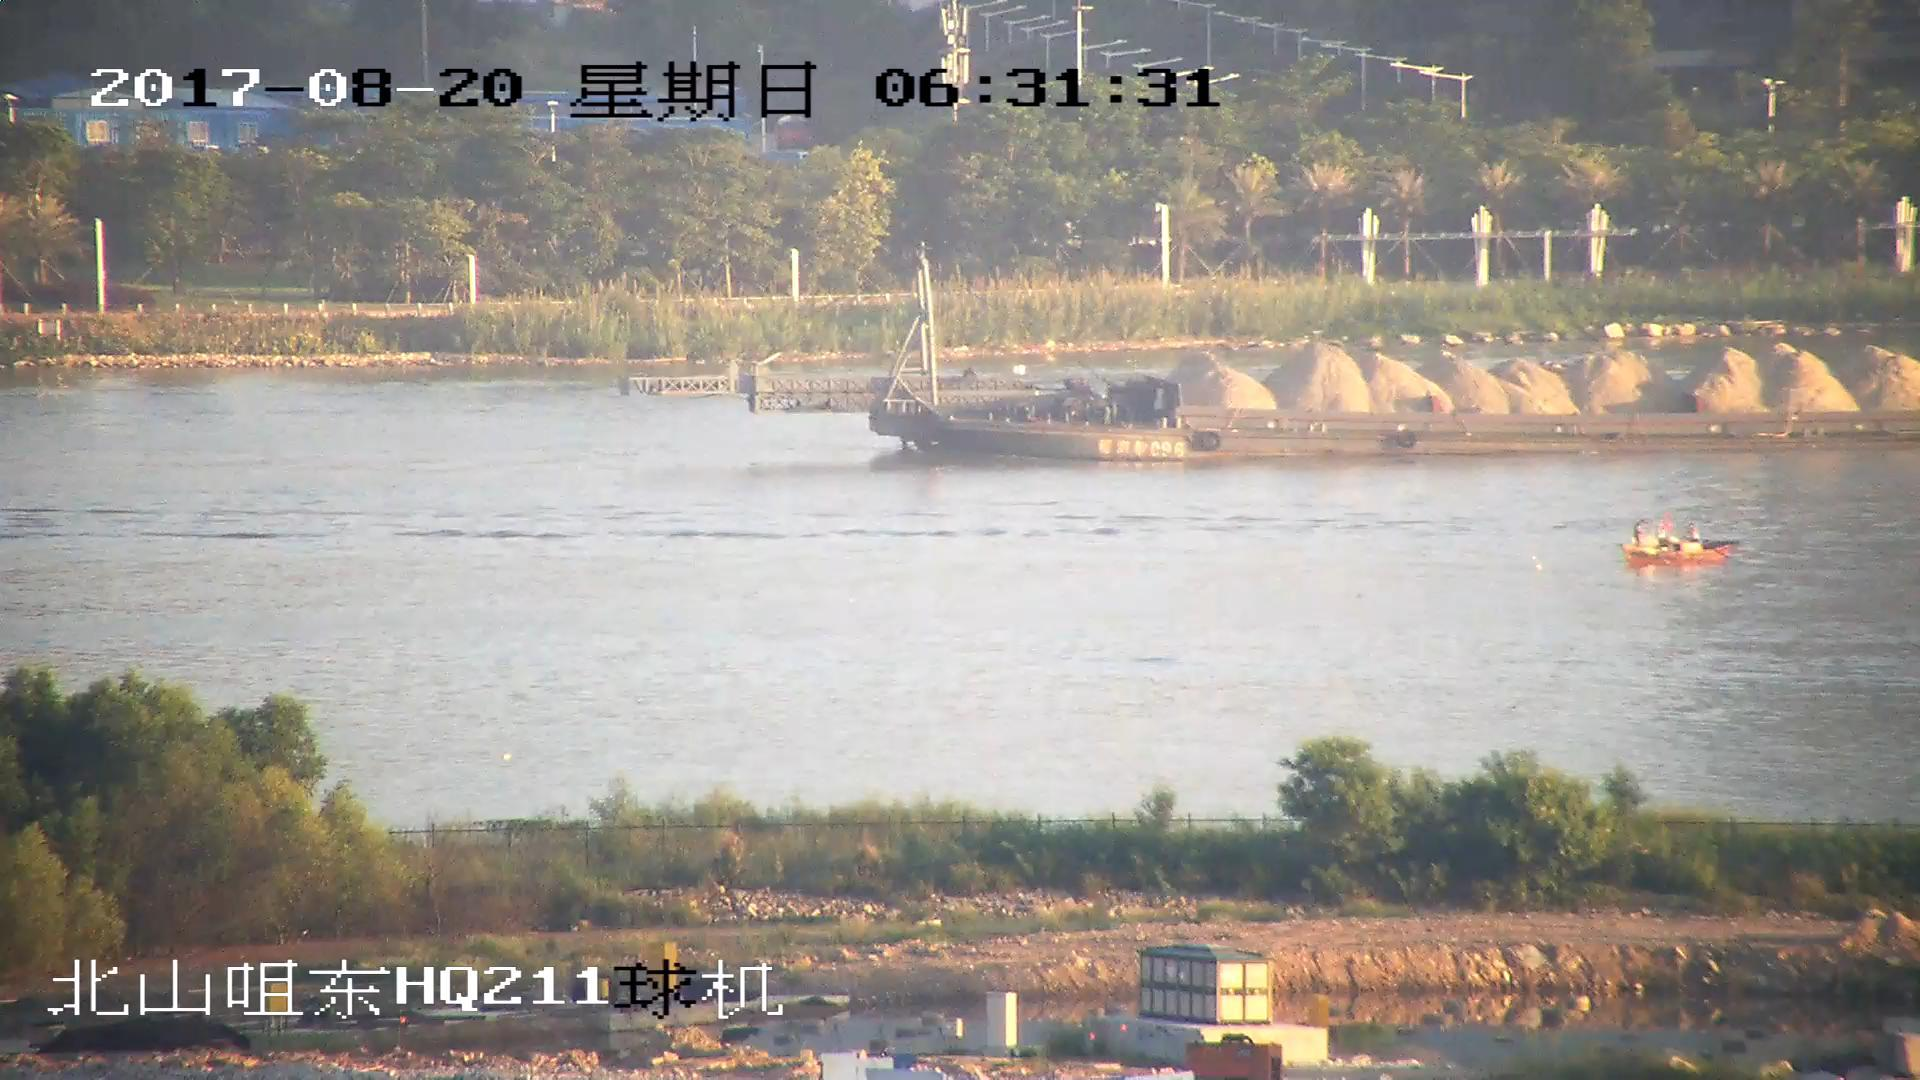Ship: (618, 247, 1920, 467), (1625, 516, 1745, 571)
